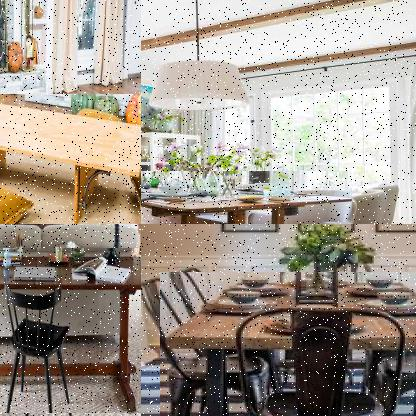table: (160, 272, 415, 415), (0, 248, 140, 415), (0, 94, 140, 223), (141, 171, 353, 223)
